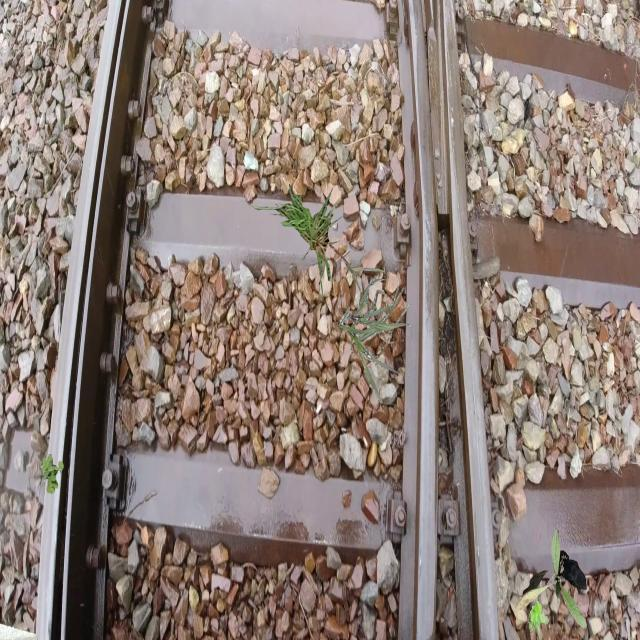Plant: (241, 183, 384, 302), (338, 279, 411, 404), (515, 529, 586, 628), (40, 454, 64, 495), (528, 601, 548, 634)
